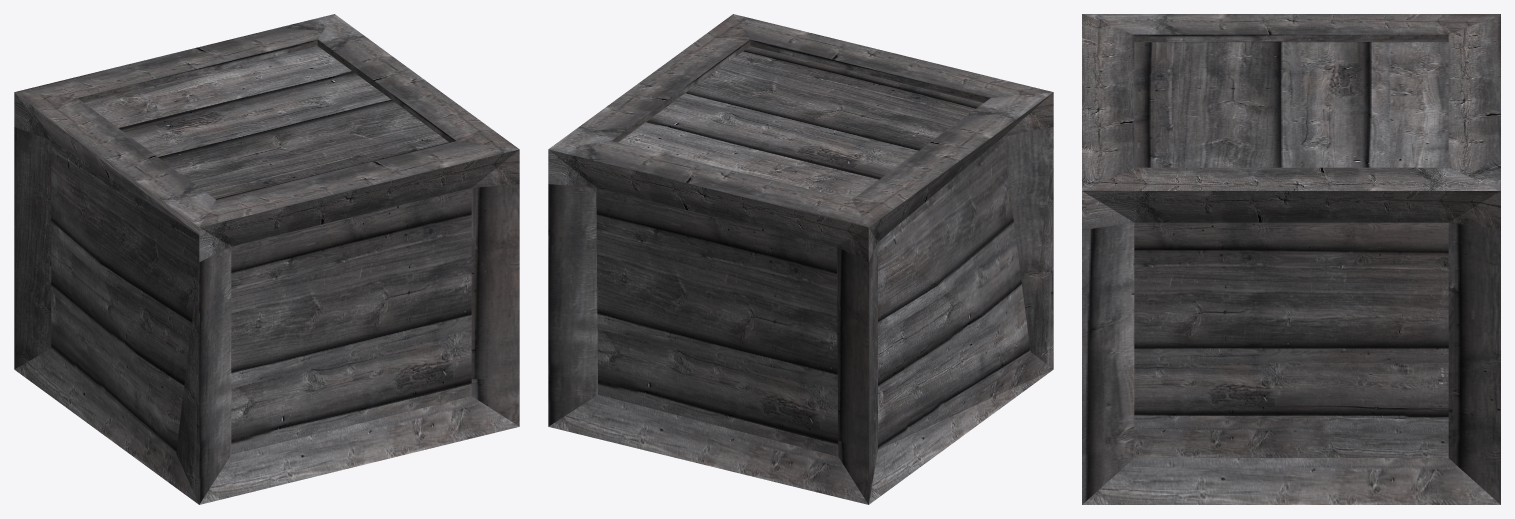
Rendered from tavern_box_LOD.dae.
The picture shows the model from 3 angles, left to right: view 1: azimuth 30°, elevation 25°; view 2: azimuth 150°, elevation 25°; view 3: azimuth 270°, elevation 25°; orthographic projection. The views are drawn at different scales.
Visible parts, largest first — view 1: Default_Layer; view 2: Default_Layer; view 3: Default_Layer.
Boxes of the visible parts, box(x1,y1,x2,y2) form: Default_Layer: box(14, 14, 519, 504); Default_Layer: box(548, 14, 1053, 504); Default_Layer: box(1082, 14, 1500, 504).
Bounding box in the file's own units: 2.91 × 2.42 × 2.91.
